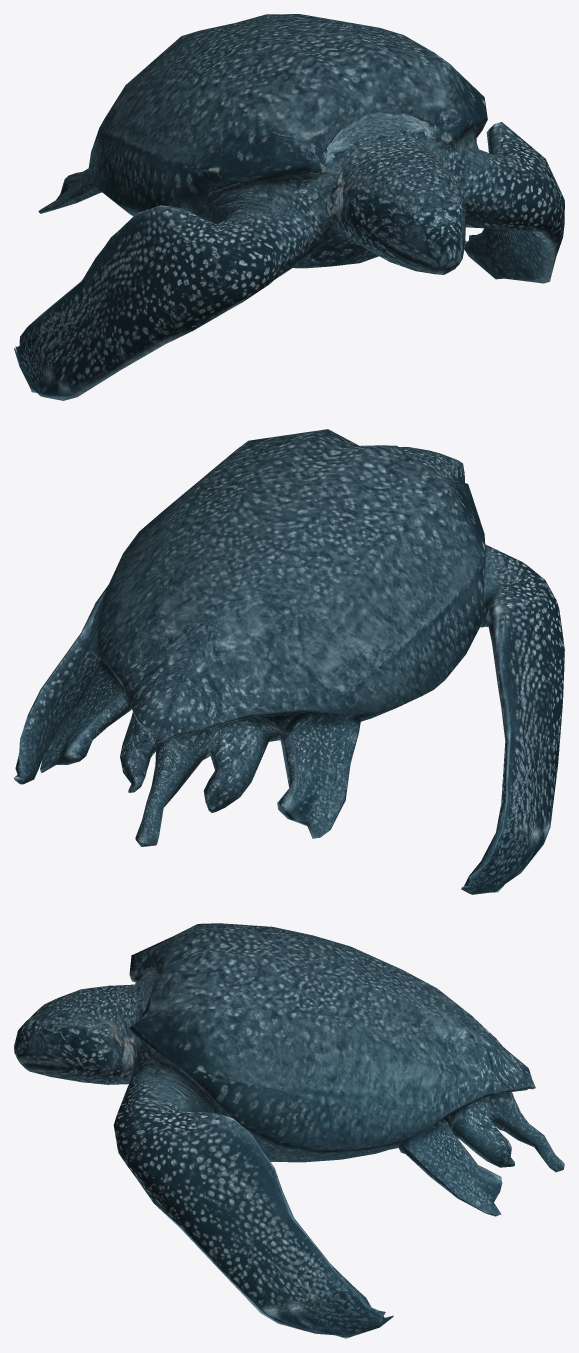
The model's file is tartaruga_de_couro_med.glb.
3 renders of one model, top to bottom at view 1: azimuth 30°, elevation 25°; view 2: azimuth 150°, elevation 25°; view 3: azimuth 270°, elevation 25°, orthographic. The views are drawn at different scales.
Bounding box in the file's own units: 0.8594 × 0.5698 × 0.9526.
1 material, 1 textured.
